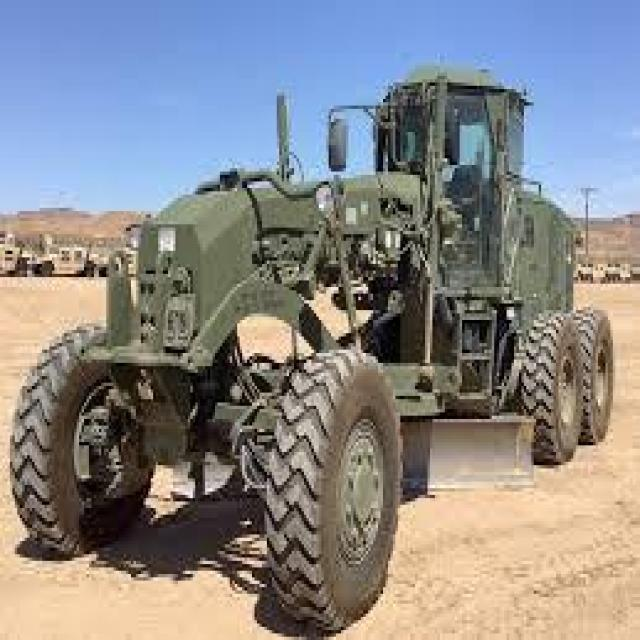Grader: (18, 37, 638, 610)
